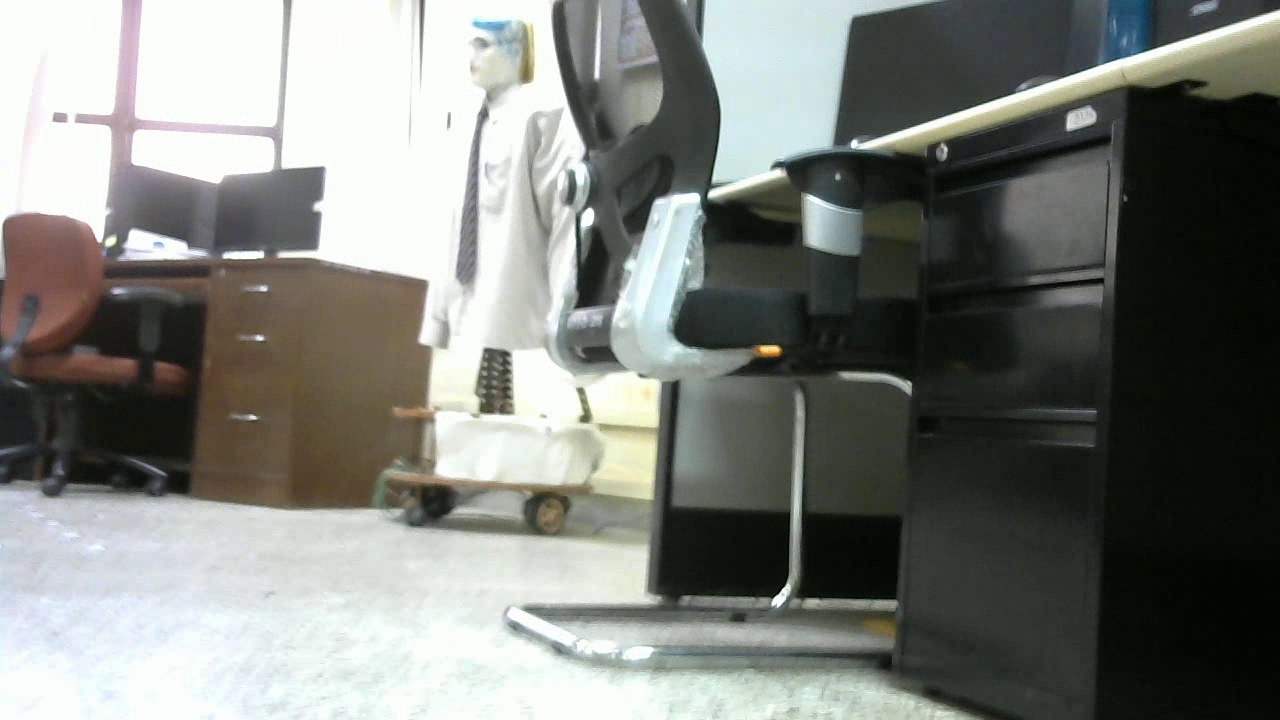chair: (503, 3, 915, 666), (1, 211, 194, 496)
